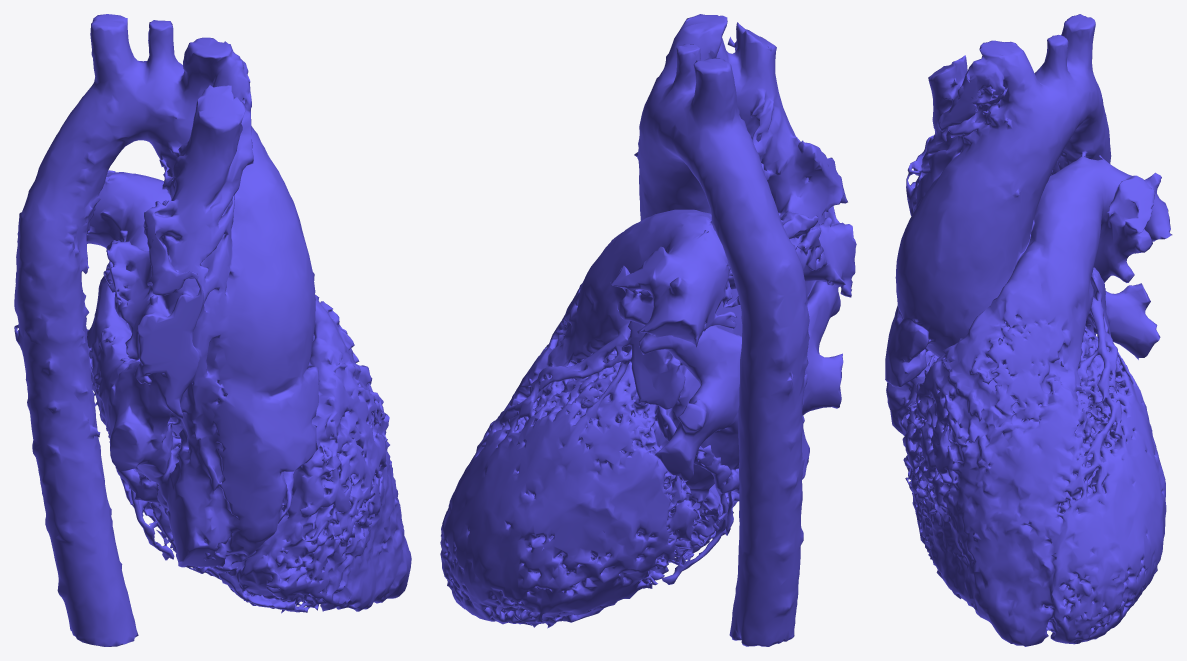
File: heartmod.glb
The picture shows the model from 3 angles, left to right: view 1: azimuth 30°, elevation 25°; view 2: azimuth 150°, elevation 25°; view 3: azimuth 270°, elevation 25°; orthographic projection. The views are drawn at different scales.
Visible parts, largest first — view 1: Object_2, Object_3; view 2: Object_2, Object_3; view 3: Object_2, Object_3.
Boxes of the visible parts, <box> form: Object_2: <box>14,33,411,646</box>; Object_3: <box>14,14,410,635</box>; Object_2: <box>440,14,856,646</box>; Object_3: <box>440,15,845,646</box>; Object_2: <box>885,20,1172,646</box>; Object_3: <box>888,14,1165,640</box>.
Size of the model in its own units: 119 by 189 by 95.02.
